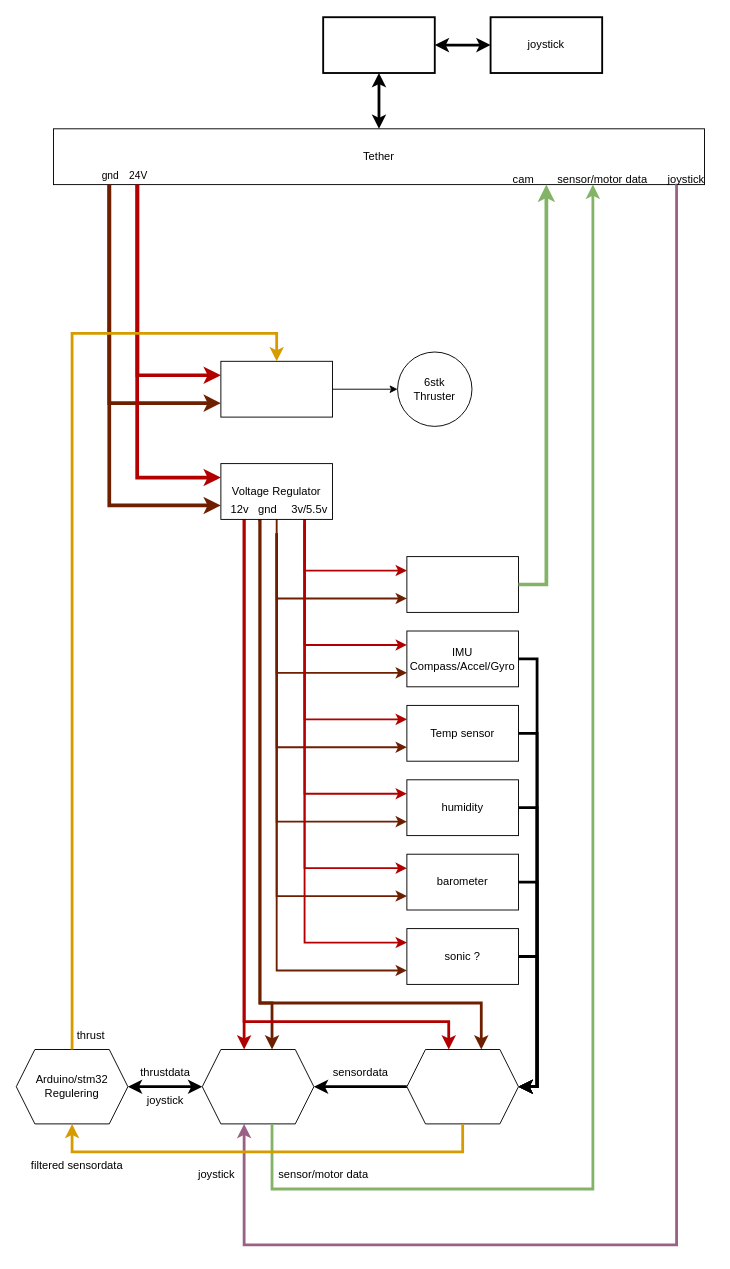
This 730x1269 diagram has some shape labels left out. The shapes that lost their labels are listed below. From the top down, each one's centre as x and y in pixels, then its label:
the point at 378,44: Pc
the point at 276,388: 6 stk Motor Controller
the point at 462,584: Camera
the point at 257,1086: Raspberrypi
the point at 462,1086: Arduino/stm32 Signalbehandling
